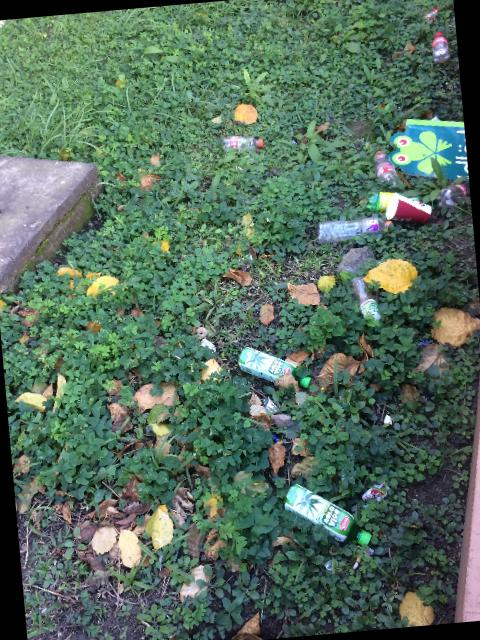plastic: (285, 483, 371, 544), (238, 347, 296, 382), (318, 216, 391, 243), (352, 277, 380, 319), (437, 183, 468, 206), (222, 135, 262, 151), (432, 31, 450, 62)
